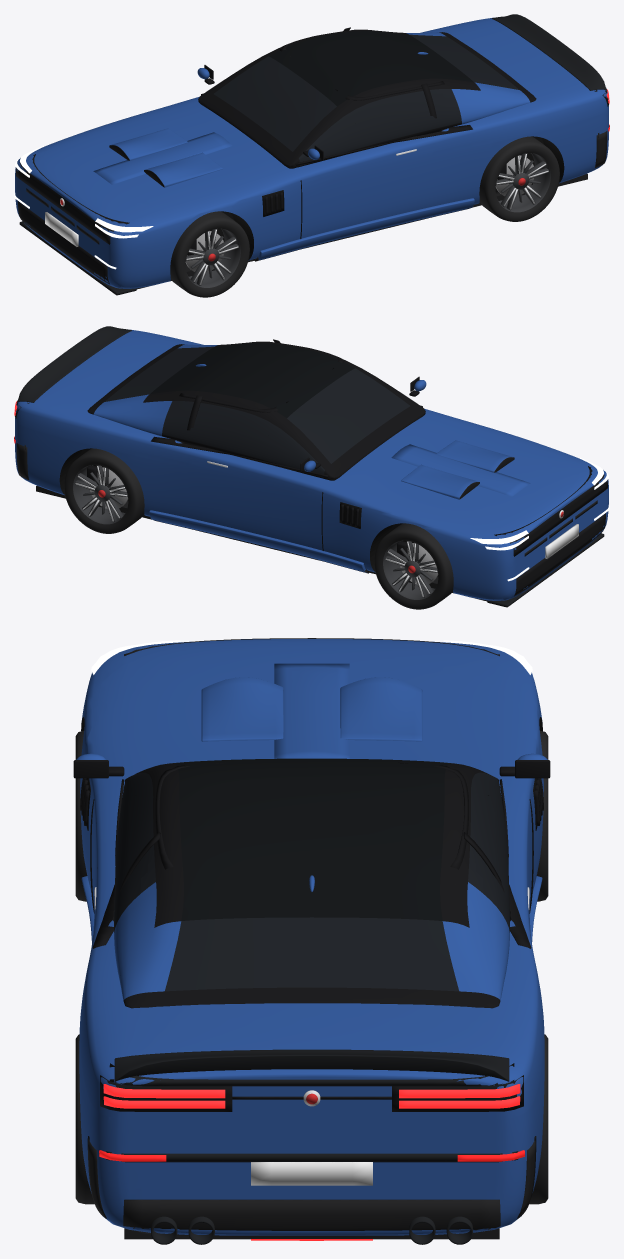
The model's file is coupe.glb.
3 renders of one model, top to bottom at view 1: azimuth 30°, elevation 25°; view 2: azimuth 150°, elevation 25°; view 3: azimuth 270°, elevation 25°, orthographic. The views are drawn at different scales.
Parts seen in each view (by area): view 1: hood_panel.001, roof_glass.001, door_front_left_panel.001, side_windows_left_glass.001, fender_rear_left_panel.001, bumper_front_panel.001, fender_front_left_panel.001, windshield_glass.001, trunk_panel.001, wheel_front_left_tire.001, wheel_rear_left_tire.001, side_skirt_left.001 (+21 smaller); view 2: hood_panel.001, roof_glass.001, door_front_right_panel.001, side_windows_right_glass.001, fender_rear_right_panel.001, bumper_front_panel.001, fender_front_right_panel.001, windshield_glass.001, trunk_panel.001, wheel_front_right_tire.001, wheel_rear_right_tire.001, side_skirt_right.001 (+21 smaller); view 3: roof_glass.001, bumper_rear_panel.001, hood_panel.001, trunk_panel.001, rear_window_glass.001, diffuser.011, side_windows_right_glass.001, side_windows_left_glass.001, spoiler_carbon.001, hood_bulge.001, fender_rear_right_panel.001, fender_rear_left_panel.001 (+23 smaller).
Boxes of the visible parts, x1=… form: hood_panel.001: x1=44, y1=102, x2=287, y2=218; roof_glass.001: x1=269, y1=31, x2=530, y2=124; door_front_left_panel.001: x1=293, y1=136, x2=436, y2=238; side_windows_left_glass.001: x1=240, y1=61, x2=536, y2=168; fender_rear_left_panel.001: x1=434, y1=87, x2=607, y2=205; bumper_front_panel.001: x1=15, y1=142, x2=168, y2=287; fender_front_left_panel.001: x1=139, y1=168, x2=301, y2=280; windshield_glass.001: x1=214, y1=56, x2=336, y2=158; trunk_panel.001: x1=447, y1=20, x2=585, y2=98; wheel_front_left_tire.001: x1=170, y1=211, x2=249, y2=297; wheel_rear_left_tire.001: x1=479, y1=136, x2=559, y2=221; side_skirt_left.001: x1=258, y1=198, x2=474, y2=260; hood_panel.001: x1=336, y1=414, x2=579, y2=530; roof_glass.001: x1=93, y1=343, x2=354, y2=436; door_front_right_panel.001: x1=187, y1=448, x2=330, y2=550; side_windows_right_glass.001: x1=87, y1=373, x2=381, y2=480; fender_rear_right_panel.001: x1=16, y1=399, x2=189, y2=517; bumper_front_panel.001: x1=455, y1=454, x2=608, y2=599; fender_front_right_panel.001: x1=322, y1=480, x2=484, y2=592; windshield_glass.001: x1=287, y1=368, x2=409, y2=470; trunk_panel.001: x1=38, y1=332, x2=176, y2=410; wheel_front_right_tire.001: x1=374, y1=523, x2=453, y2=609; wheel_rear_right_tire.001: x1=64, y1=448, x2=144, y2=533; side_skirt_right.001: x1=149, y1=510, x2=366, y2=572; roof_glass.001: x1=114, y1=758, x2=509, y2=1000; bumper_rear_panel.001: x1=81, y1=1062, x2=542, y2=1234; hood_panel.001: x1=129, y1=640, x2=494, y2=776; trunk_panel.001: x1=129, y1=1003, x2=494, y2=1112; rear_window_glass.001: x1=141, y1=858, x2=482, y2=991; diffuser.011: x1=123, y1=1199, x2=500, y2=1238; side_windows_right_glass.001: x1=312, y1=763, x2=509, y2=1008; side_windows_left_glass.001: x1=114, y1=763, x2=311, y2=1008; spoiler_carbon.001: x1=114, y1=1049, x2=509, y2=1081; hood_bulge.001: x1=274, y1=663, x2=349, y2=758; fender_rear_right_panel.001: x1=495, y1=914, x2=544, y2=1154; fender_rear_left_panel.001: x1=79, y1=914, x2=128, y2=1150.
Bounding box in the file's own units: 4.97 × 1.39 × 2.03.
